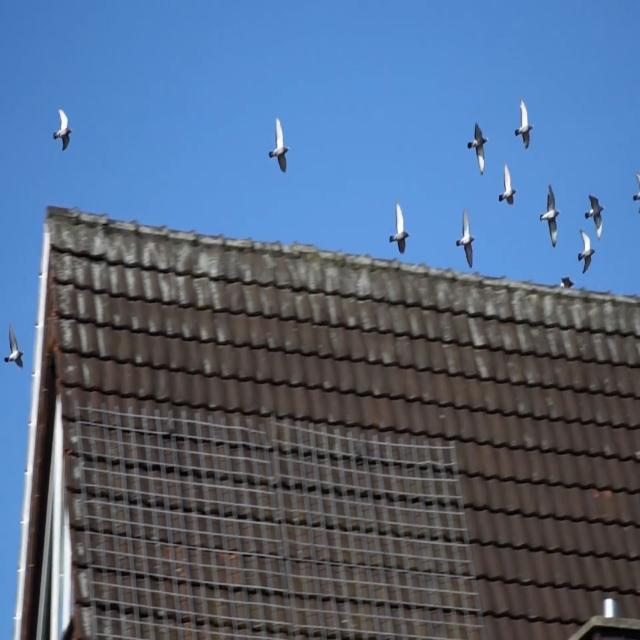bird: (539, 180, 562, 250), (267, 114, 291, 175), (388, 198, 412, 257), (455, 206, 477, 270), (466, 121, 490, 179), (514, 95, 535, 151), (51, 107, 74, 155), (584, 192, 606, 242), (4, 322, 25, 373), (497, 160, 518, 207), (576, 227, 596, 275)
